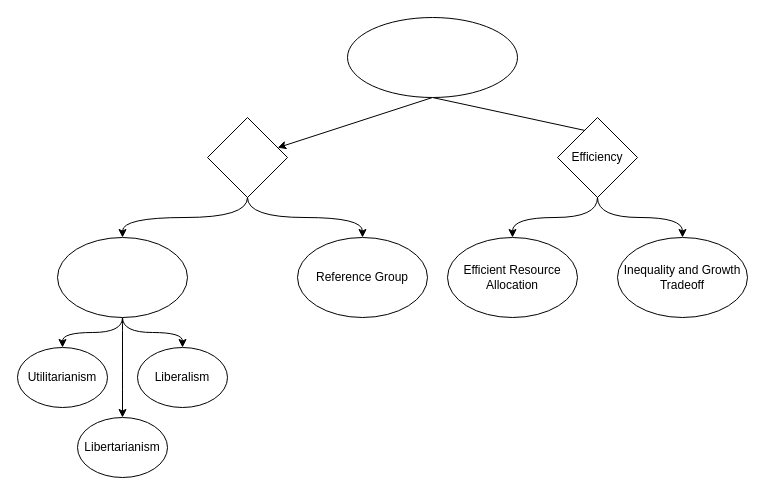
Image size: 765x495. Some labels were removed from this diagram. Each missing label, with the centre of its shape:
Preferences: pixel 247 157
Welfare Philosophy: pixel 122 277
What determines our tolerance to inequality ?: pixel 432 57
